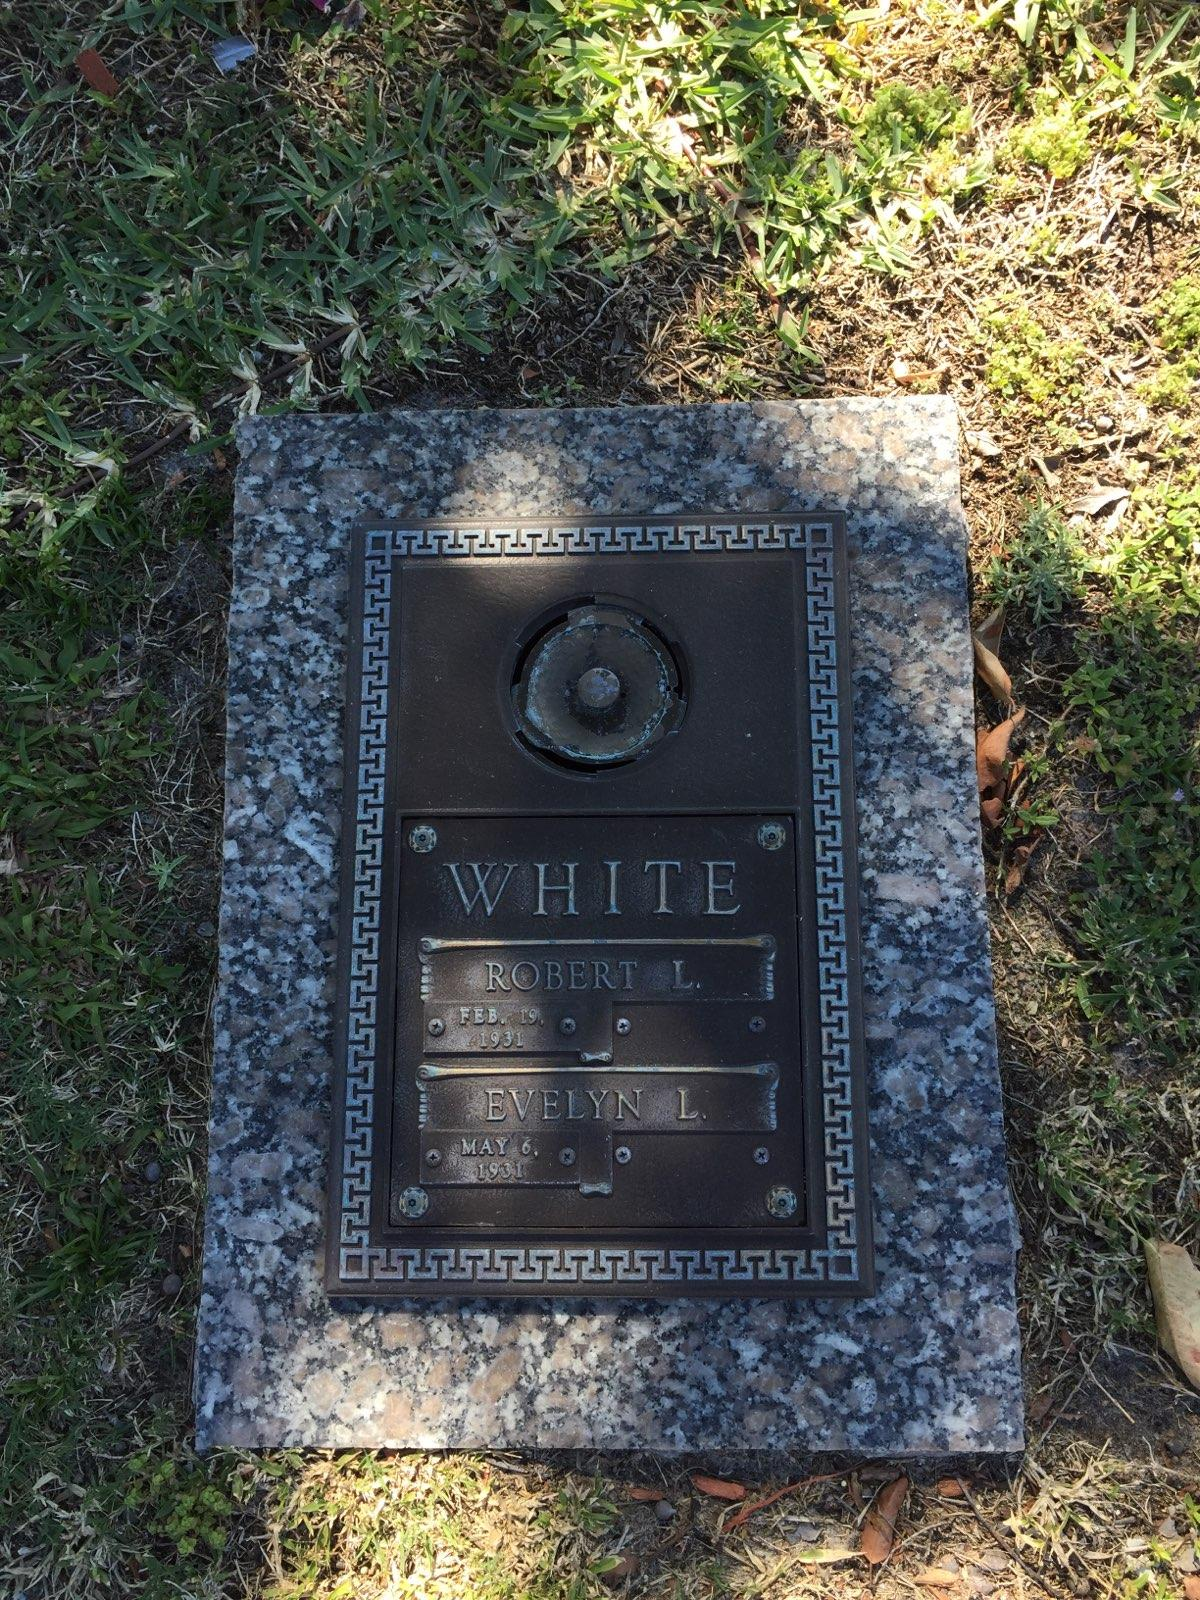flat: (156, 326, 1073, 1484)
